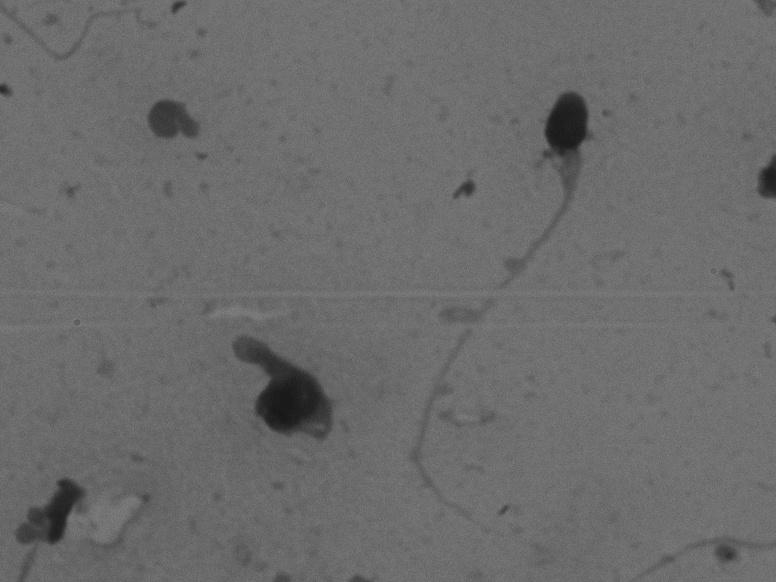Abnormal: (379, 78, 627, 556), (191, 283, 350, 470)
